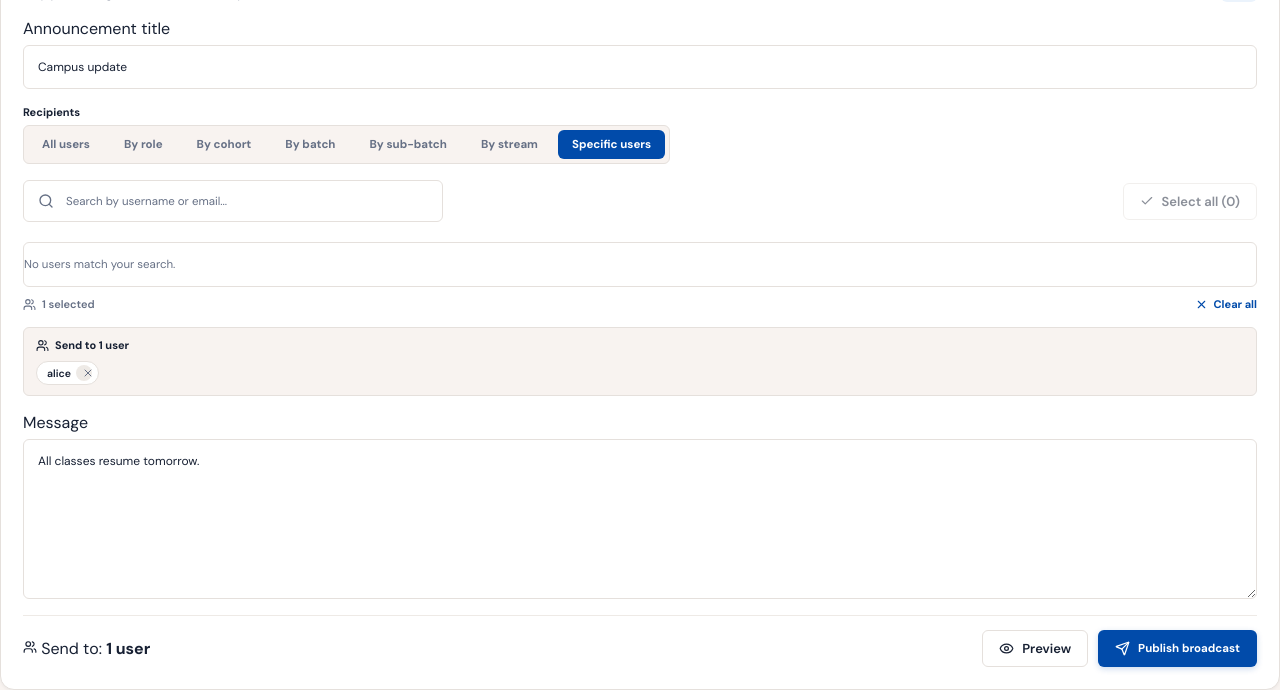
Scenario: BroadcastForm — preview modal › lists selected users in the preview when targeting specific users
The width and height of the screenshot is (1280, 690).
(page scrolled)
Click the button "Preview".
click(1035, 649)  # box [982, 630, 1088, 667]
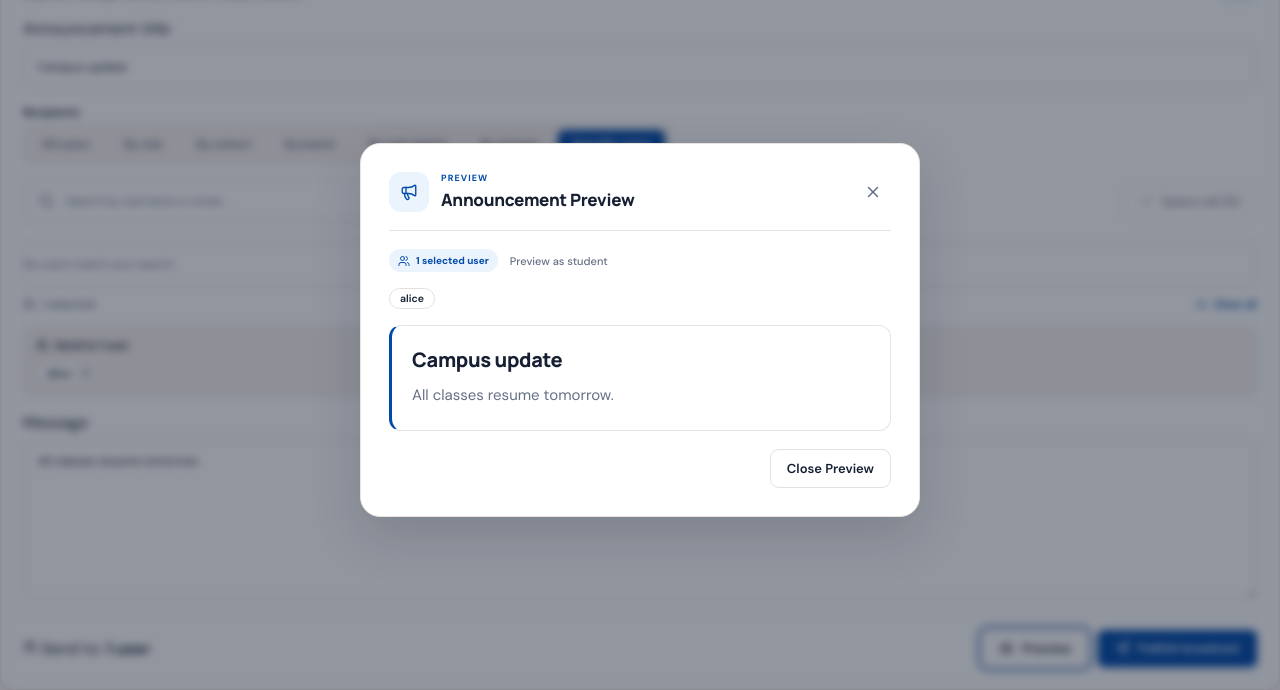
Result: the text "1 selected user" is shown at [389, 249, 498, 272]
Result: the text "alice" is shown at [389, 288, 435, 309]
